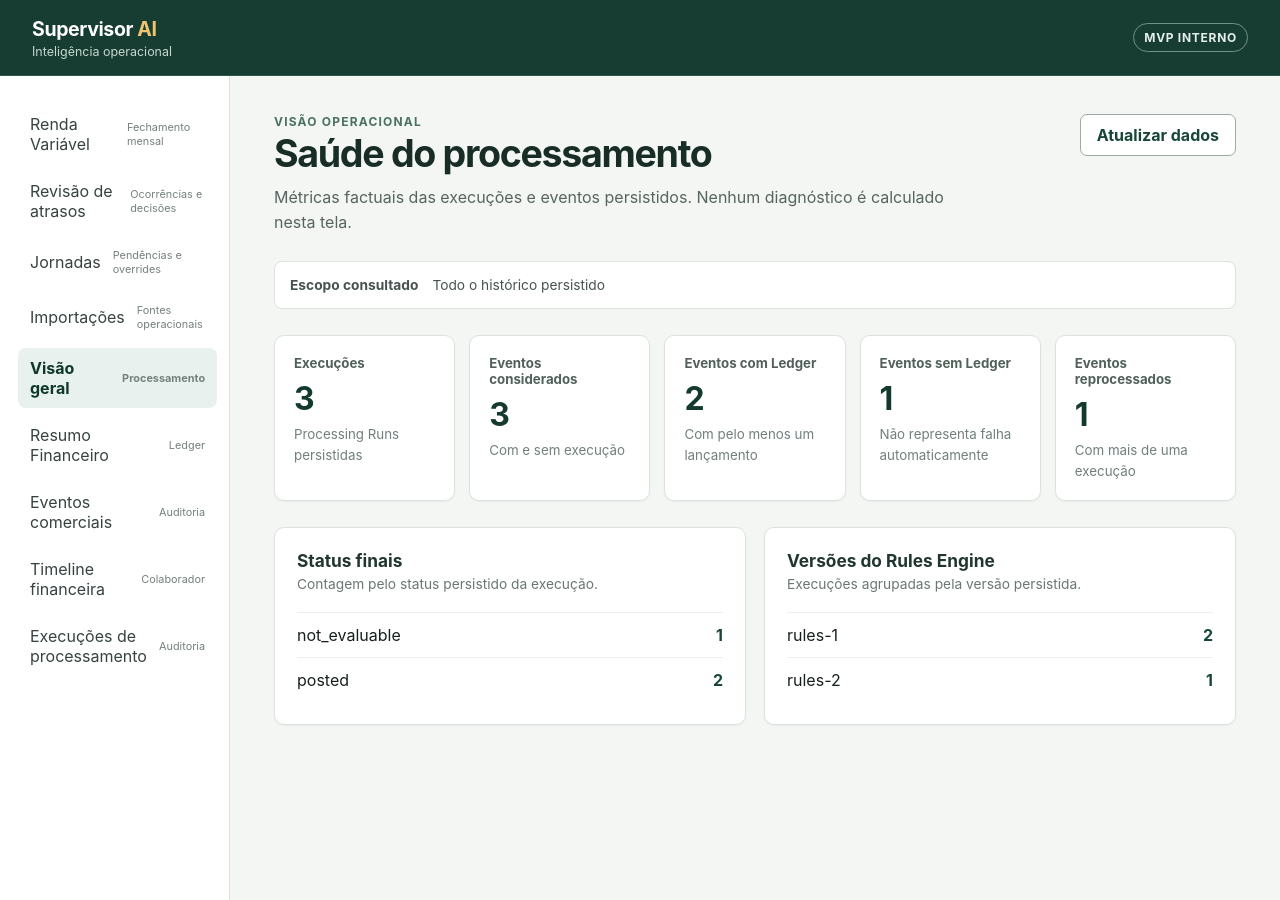
financial timeline navigation uses React Router and starts idle
The width and height of the screenshot is (1280, 900).
Click the link "Timeline financeira Colaborador".
click(62, 569)  # box [18,549,217,609]
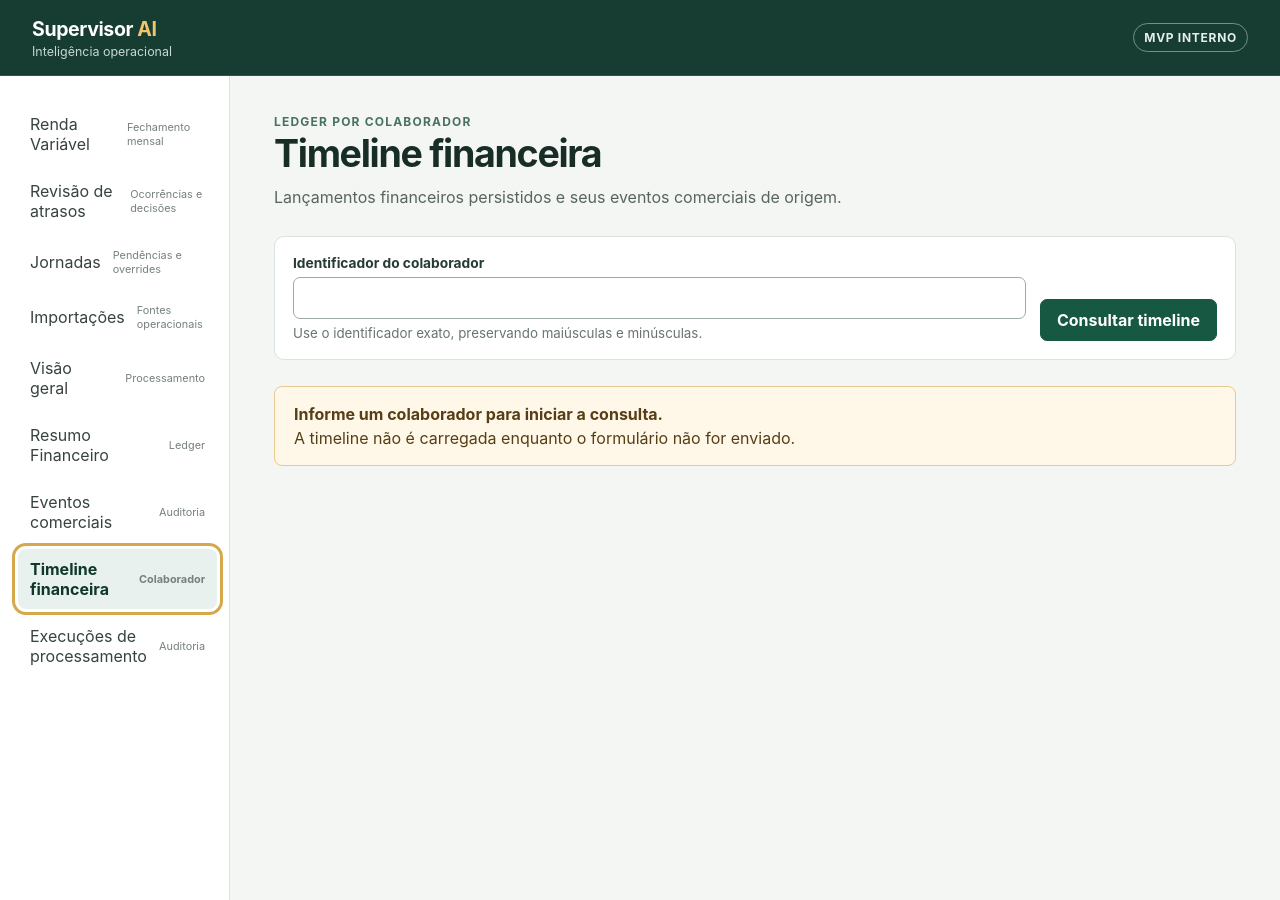
Check: the text "Informe um colaborador para iniciar a consulta." is shown, box [294,404,663,424]
